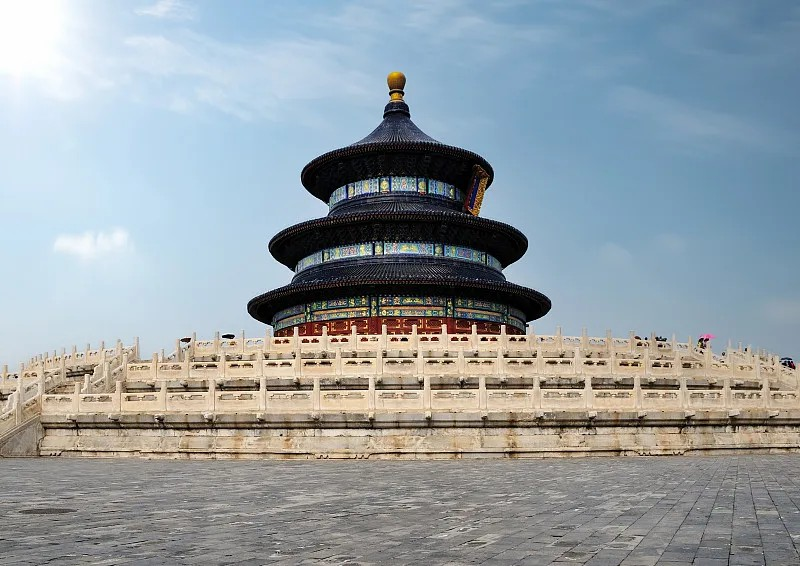Heaven: (246, 71, 553, 336)
